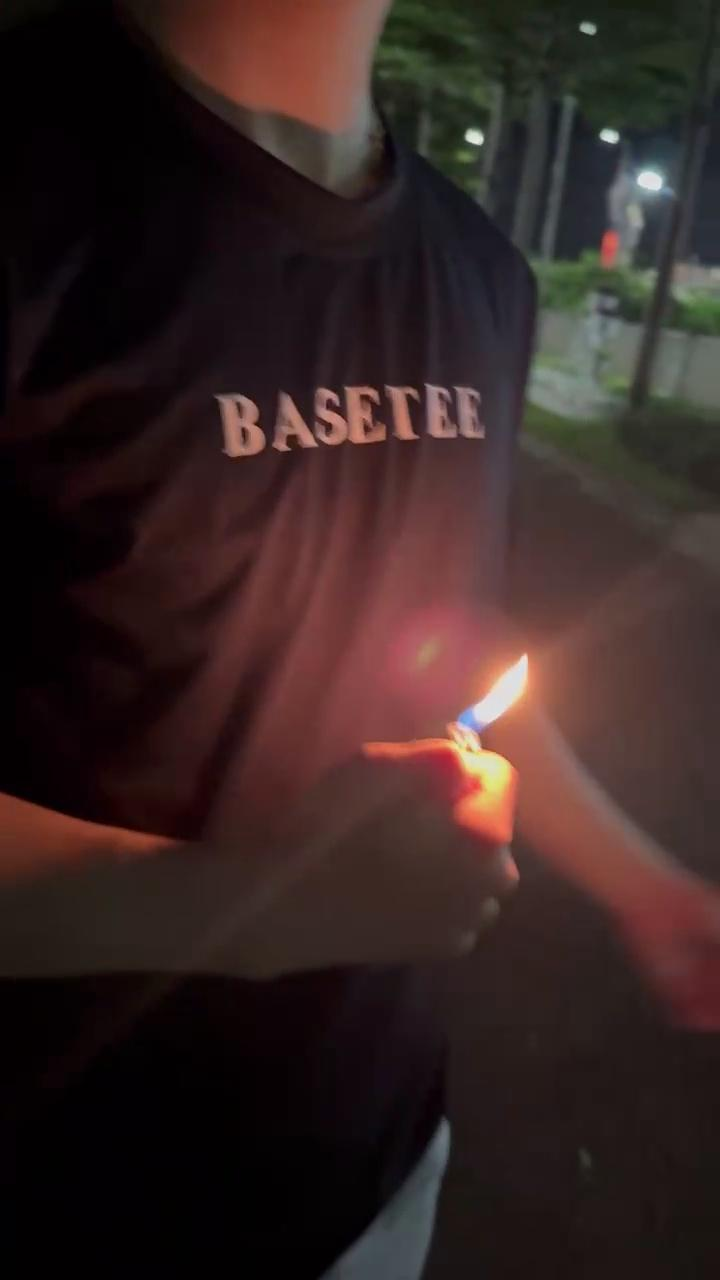Fire: (442, 625, 572, 730)
